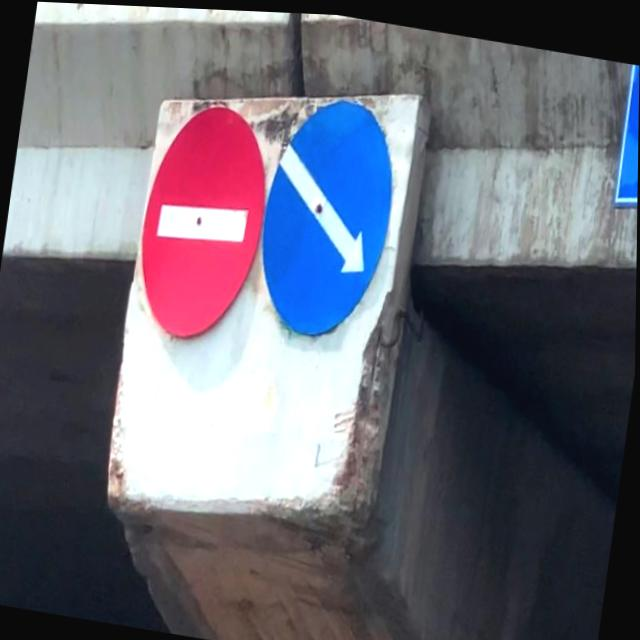Cam di nguoc chieu: (127, 85, 281, 354)
Vong chuong ngai vat sang phai: (247, 82, 408, 348)
